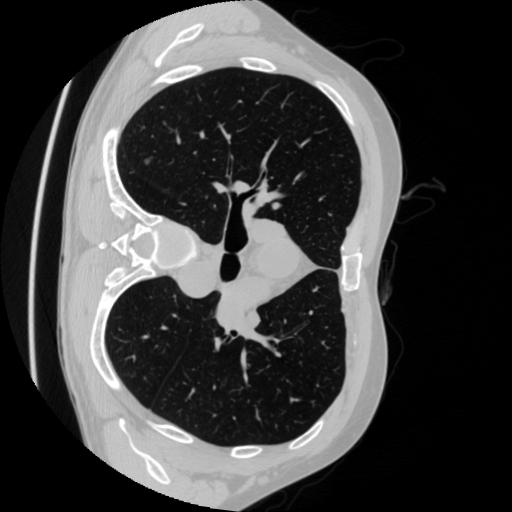nodule: (143, 156, 155, 168)
